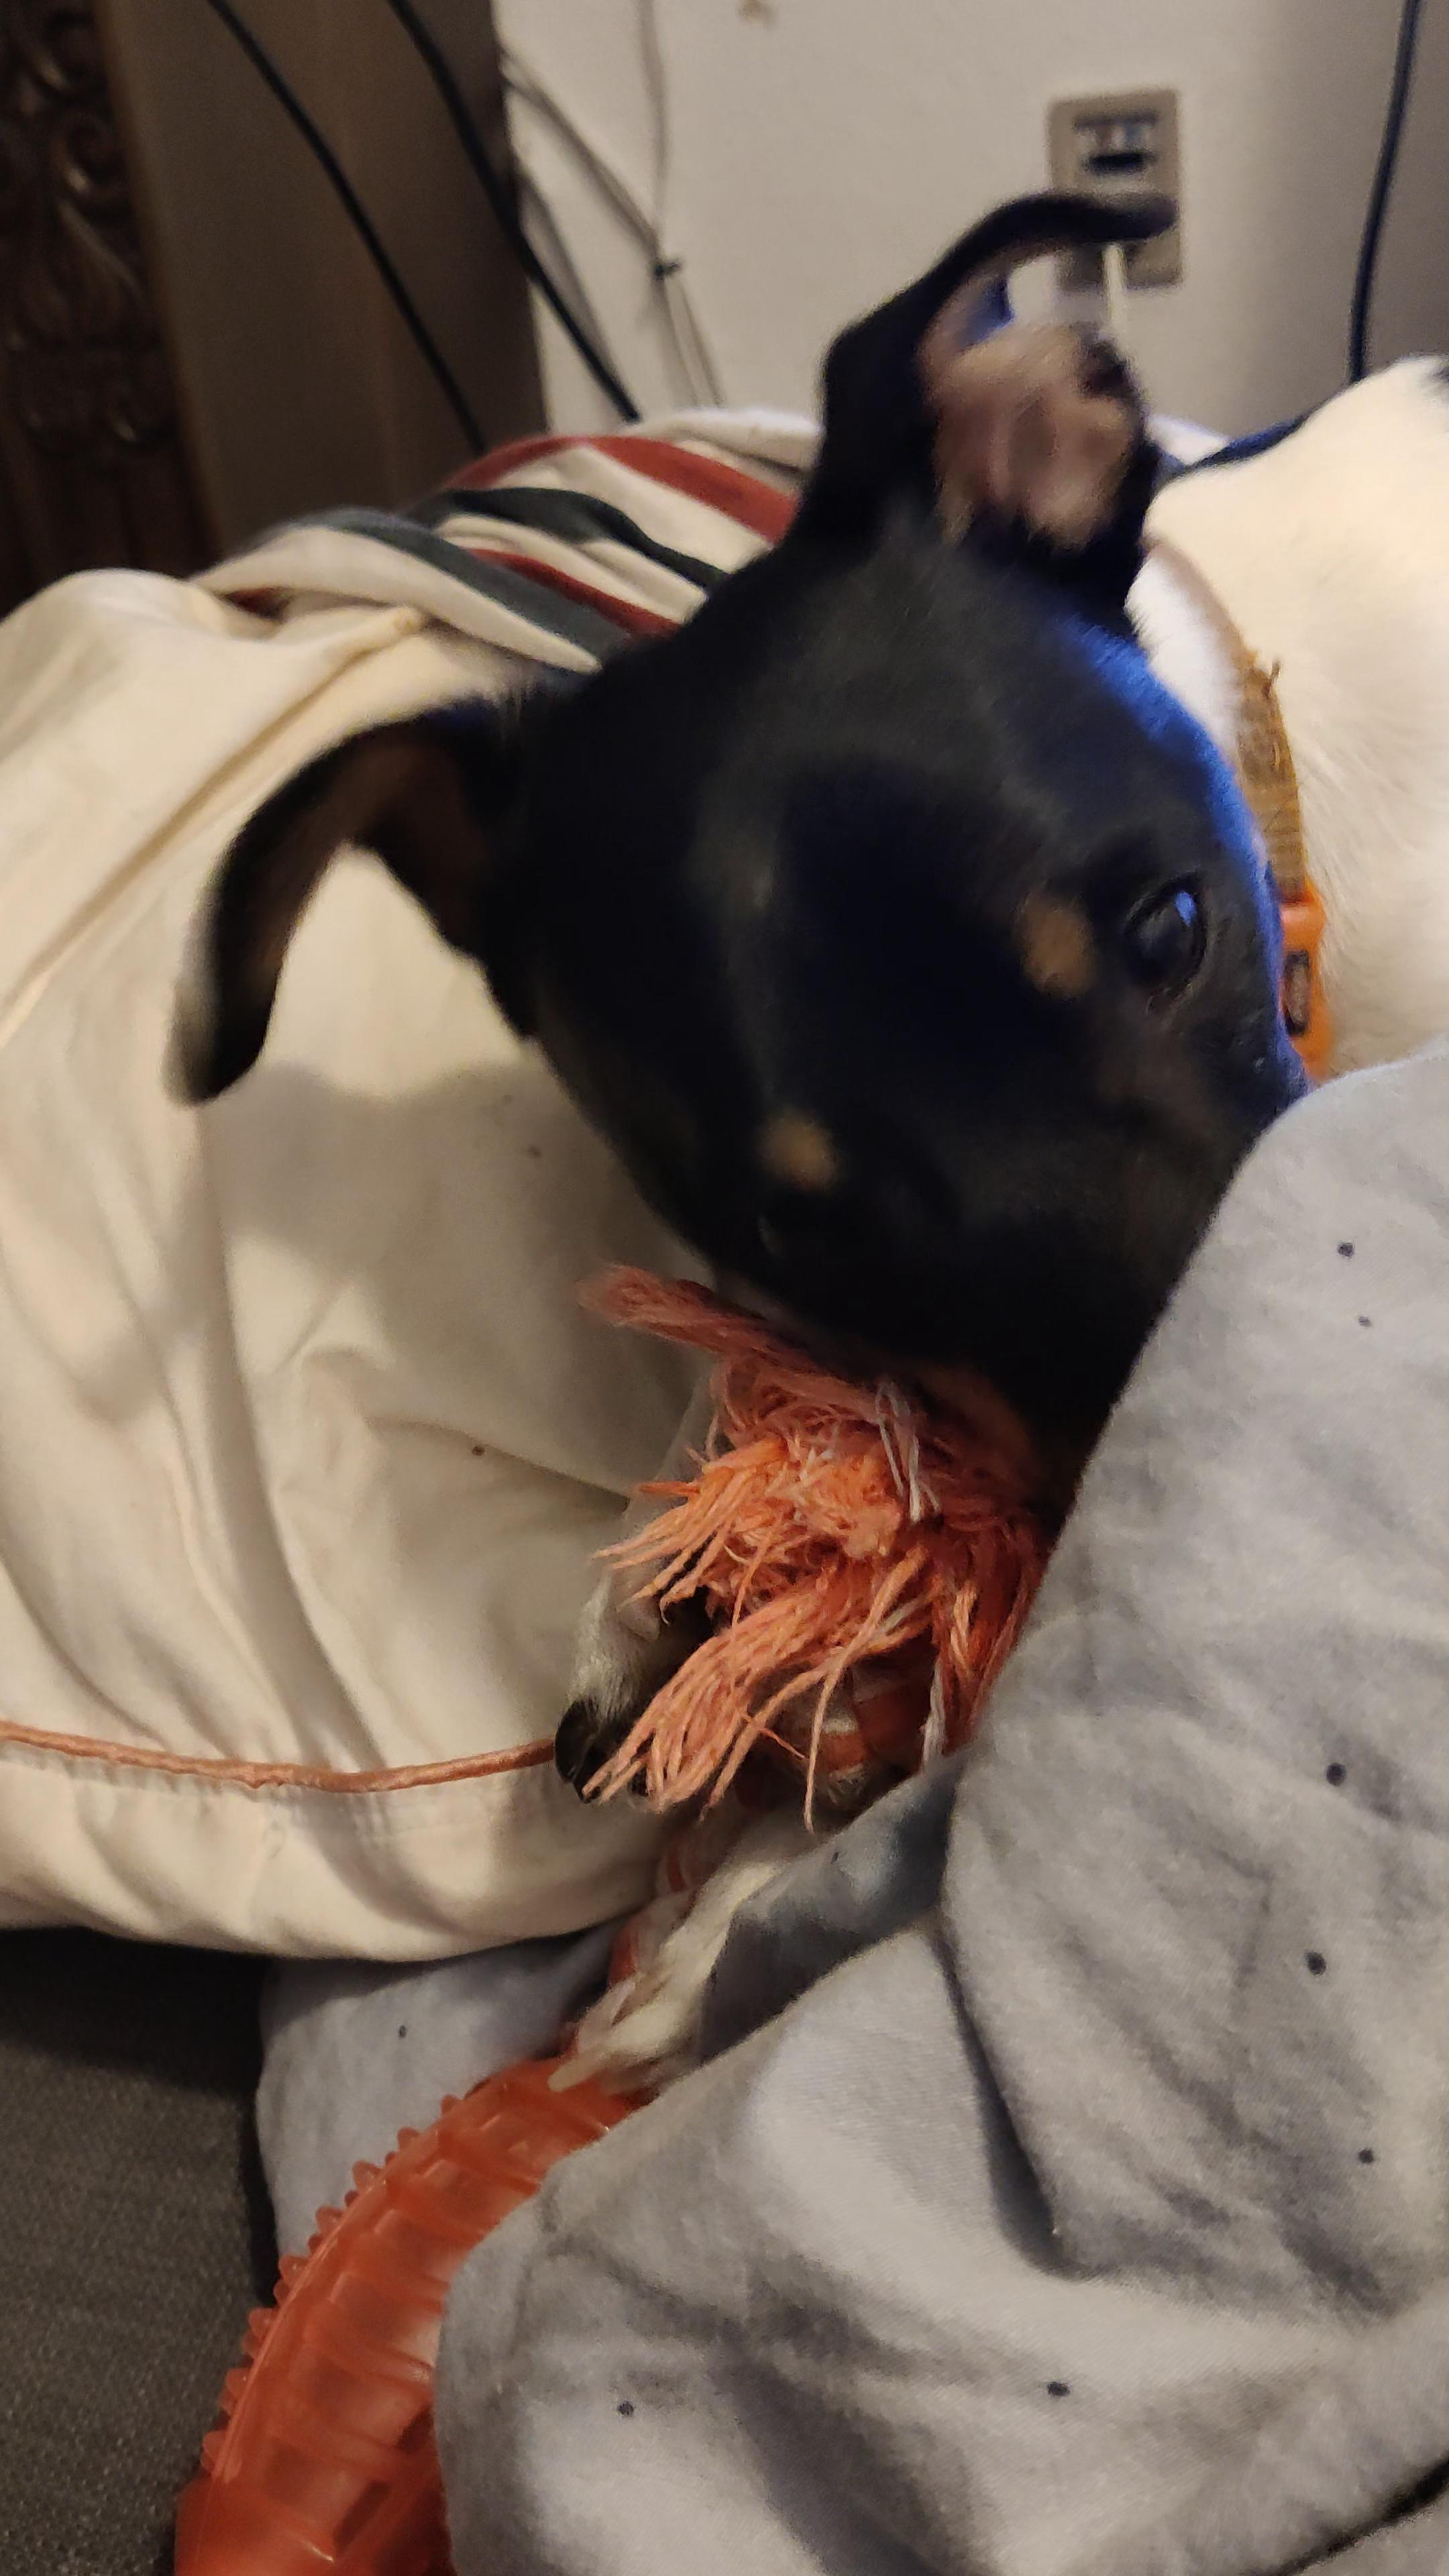Dog: (145, 189, 1449, 2116)
